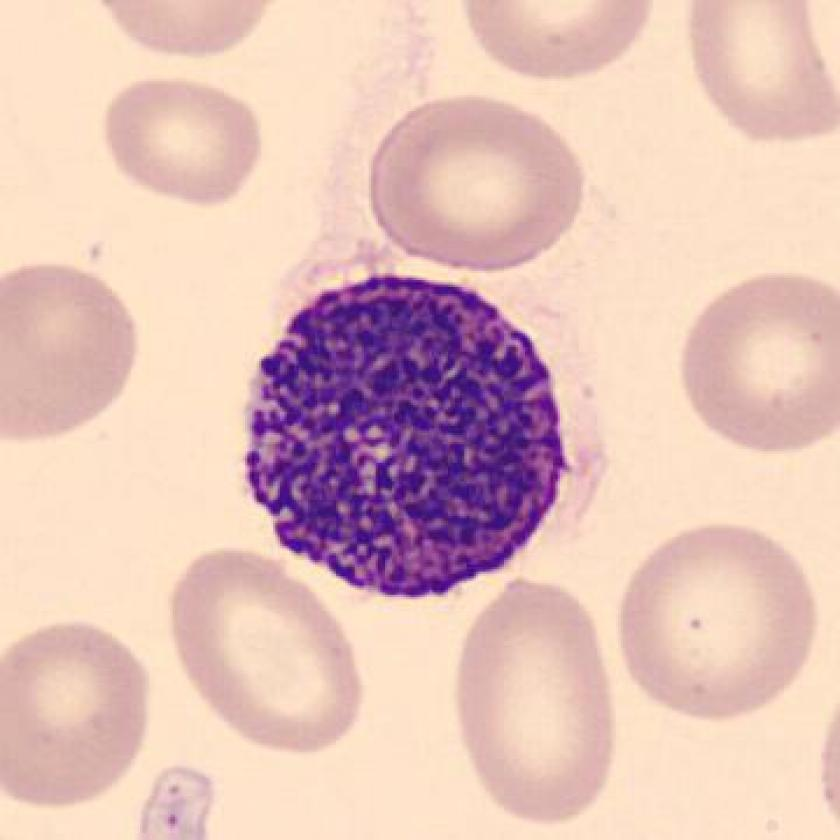basophil: (225, 253, 587, 612)
